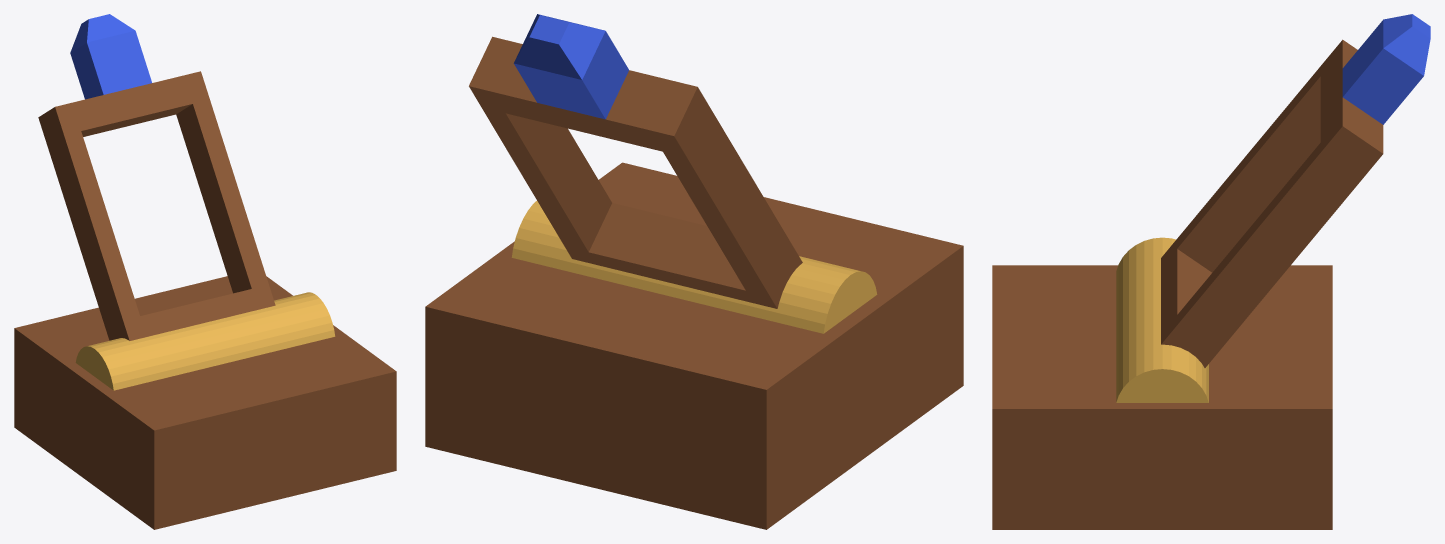
Rendered from lever.glb.
3 renders of one model, left to right at view 1: azimuth 30°, elevation 25°; view 2: azimuth 150°, elevation 25°; view 3: azimuth 270°, elevation 25°, orthographic. The views are drawn at different scales.
Parts seen in each view (by area): view 1: Box, Lever, Cylinder; view 2: Box, Lever, Cylinder; view 3: Box, Lever, Cylinder.
Part boxes in pixels (<box>): Box: <box>14,276,396,529</box>; Lever: <box>38,14,275,340</box>; Cylinder: <box>75,292,335,390</box>; Box: <box>425,162,963,529</box>; Lever: <box>469,14,802,308</box>; Cylinder: <box>511,201,877,333</box>; Box: <box>992,265,1332,529</box>; Lever: <box>1161,14,1430,367</box>; Cylinder: <box>1116,237,1208,402</box>.
Size of the model in its own units: 7.17 by 10.13 by 9.23.
